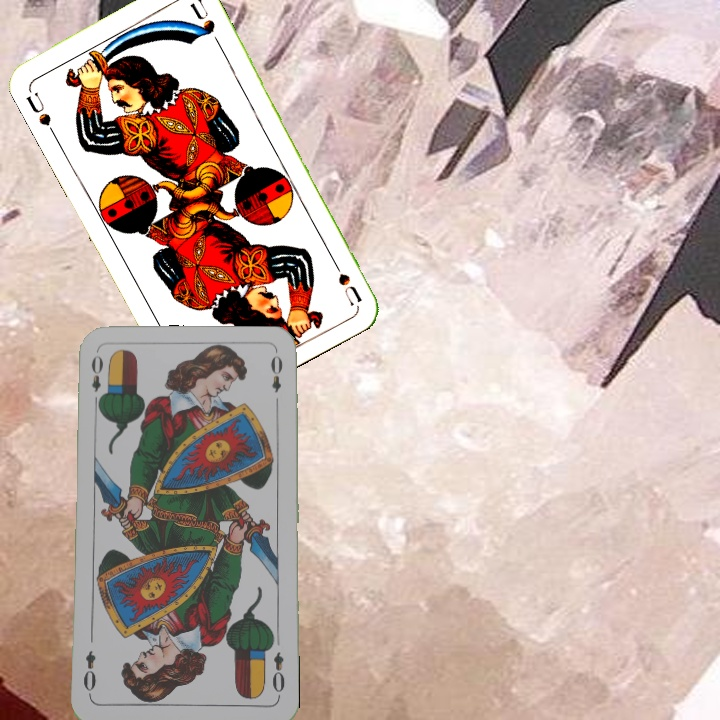EO: (87, 351, 106, 409), (269, 648, 288, 700)
SU: (326, 251, 365, 308), (22, 88, 54, 129)
